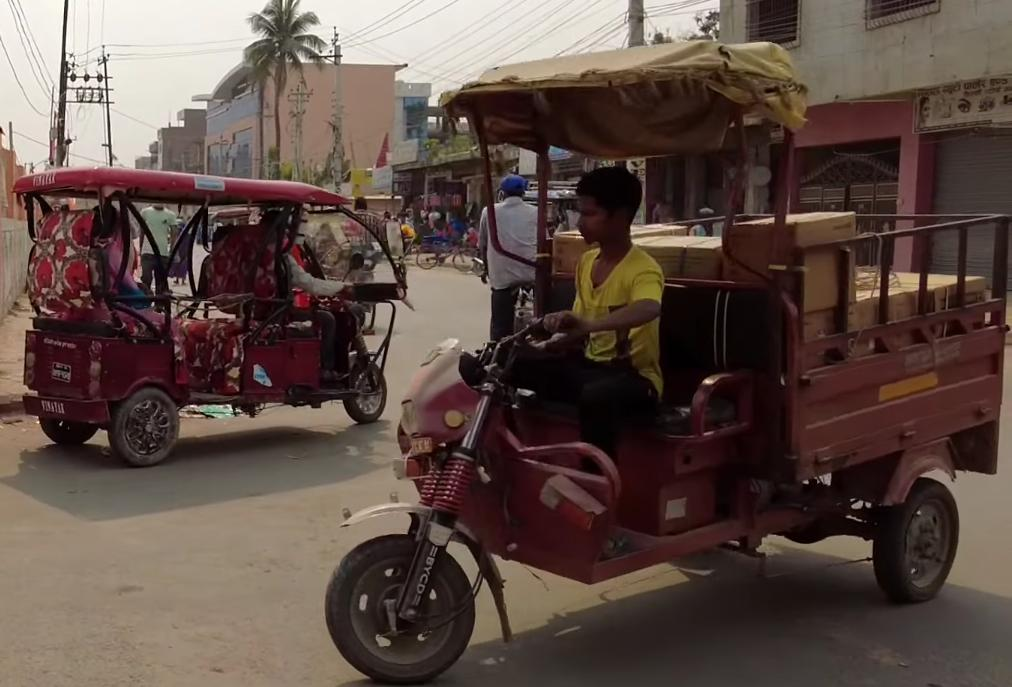e-rickshaw: (307, 33, 1004, 687), (7, 159, 405, 490)
